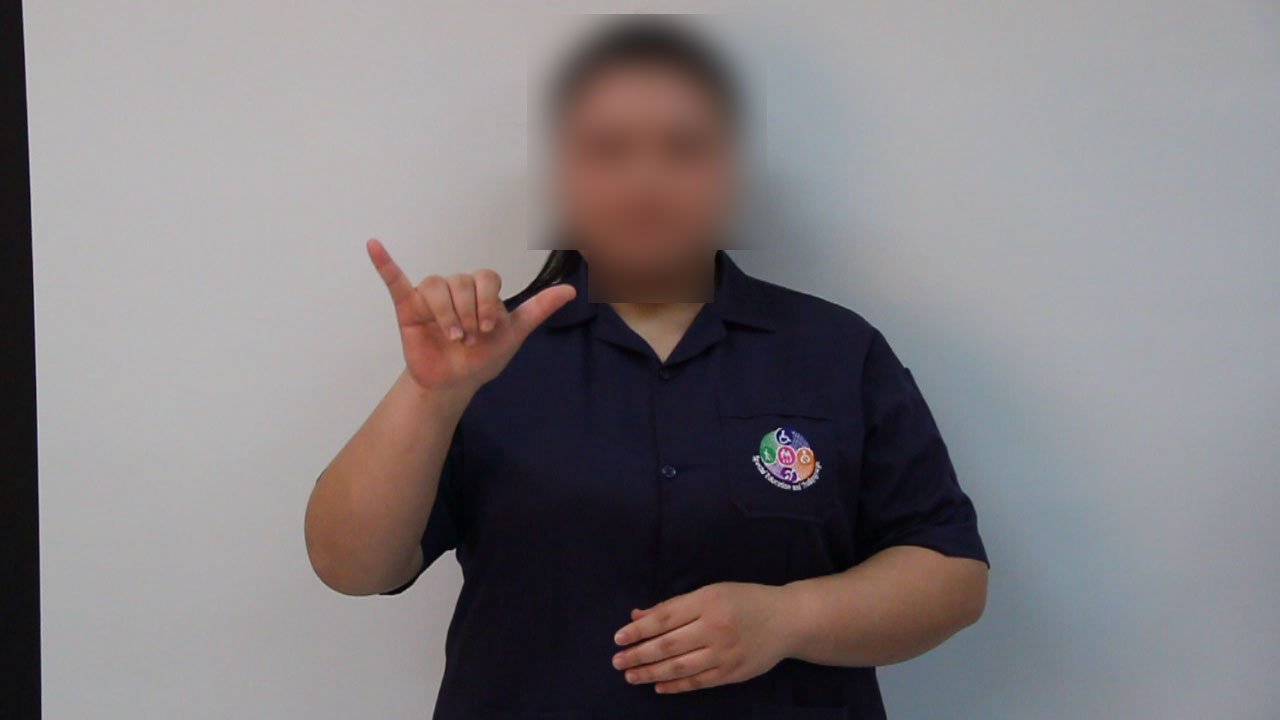yor: (349, 229, 581, 402)
